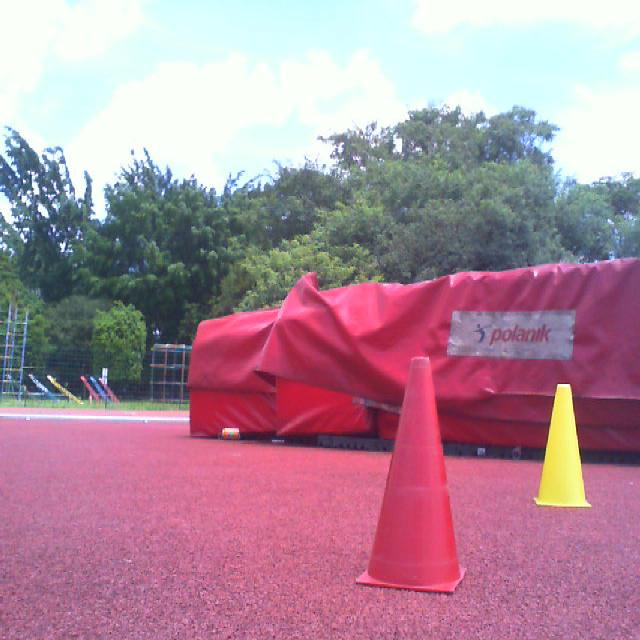cone: (534, 384, 591, 507)
